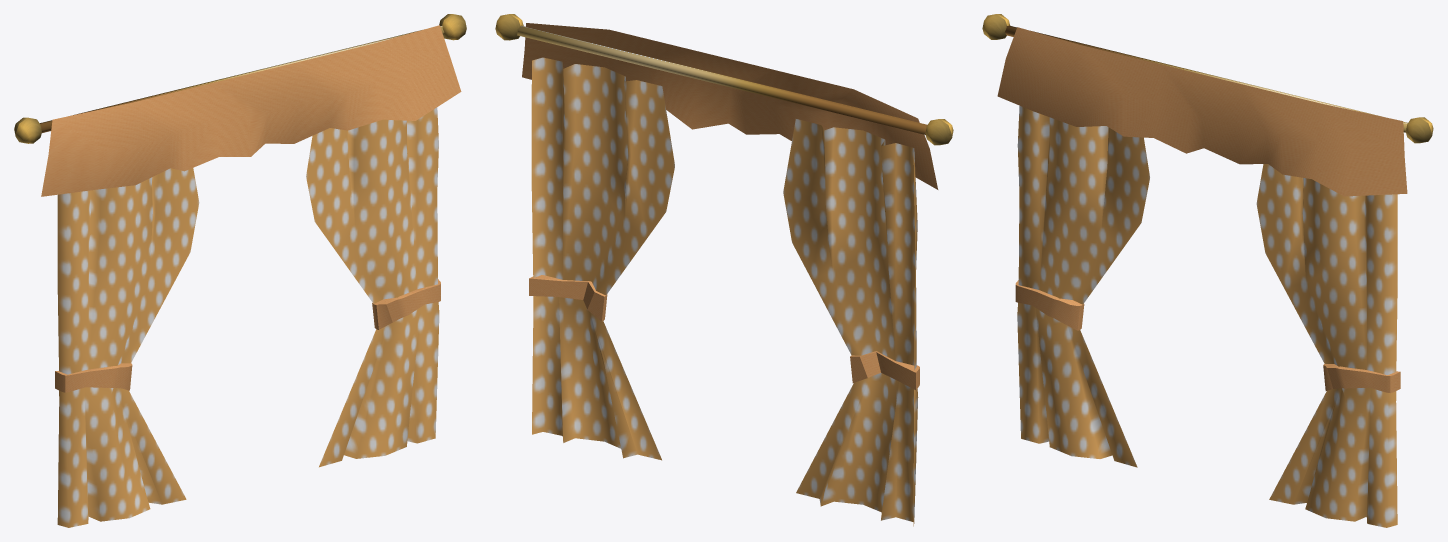
Rendered from Curtains_01_E.FBX.
3 views of the same model, side by side, from view 1: azimuth 30°, elevation 25°; view 2: azimuth 150°, elevation 25°; view 3: azimuth 330°, elevation 25° (orthographic).
Visible parts, largest first — view 1: Curtains_01; view 2: Curtains_01; view 3: Curtains_01.
Boxes of the visible parts, bbox=[...] form: Curtains_01: bbox=[14, 14, 466, 527]; Curtains_01: bbox=[495, 14, 953, 526]; Curtains_01: bbox=[982, 14, 1433, 527].
Size of the model in its own units: 251 by 221 by 25.59.
